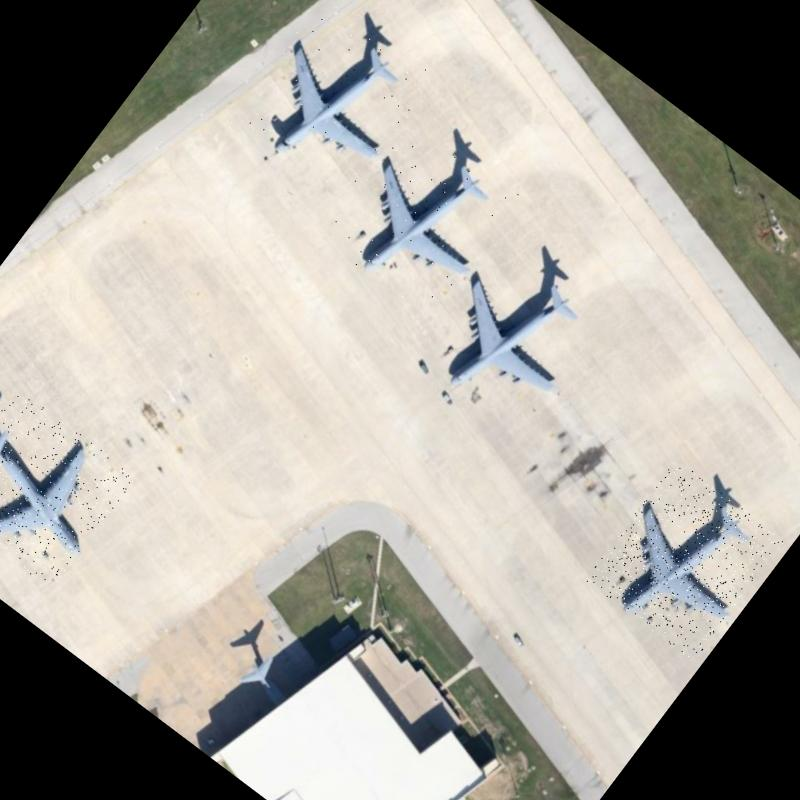A4: (227, 0, 439, 208), (317, 113, 521, 320), (408, 234, 612, 441), (584, 459, 784, 662), (0, 387, 136, 590)
